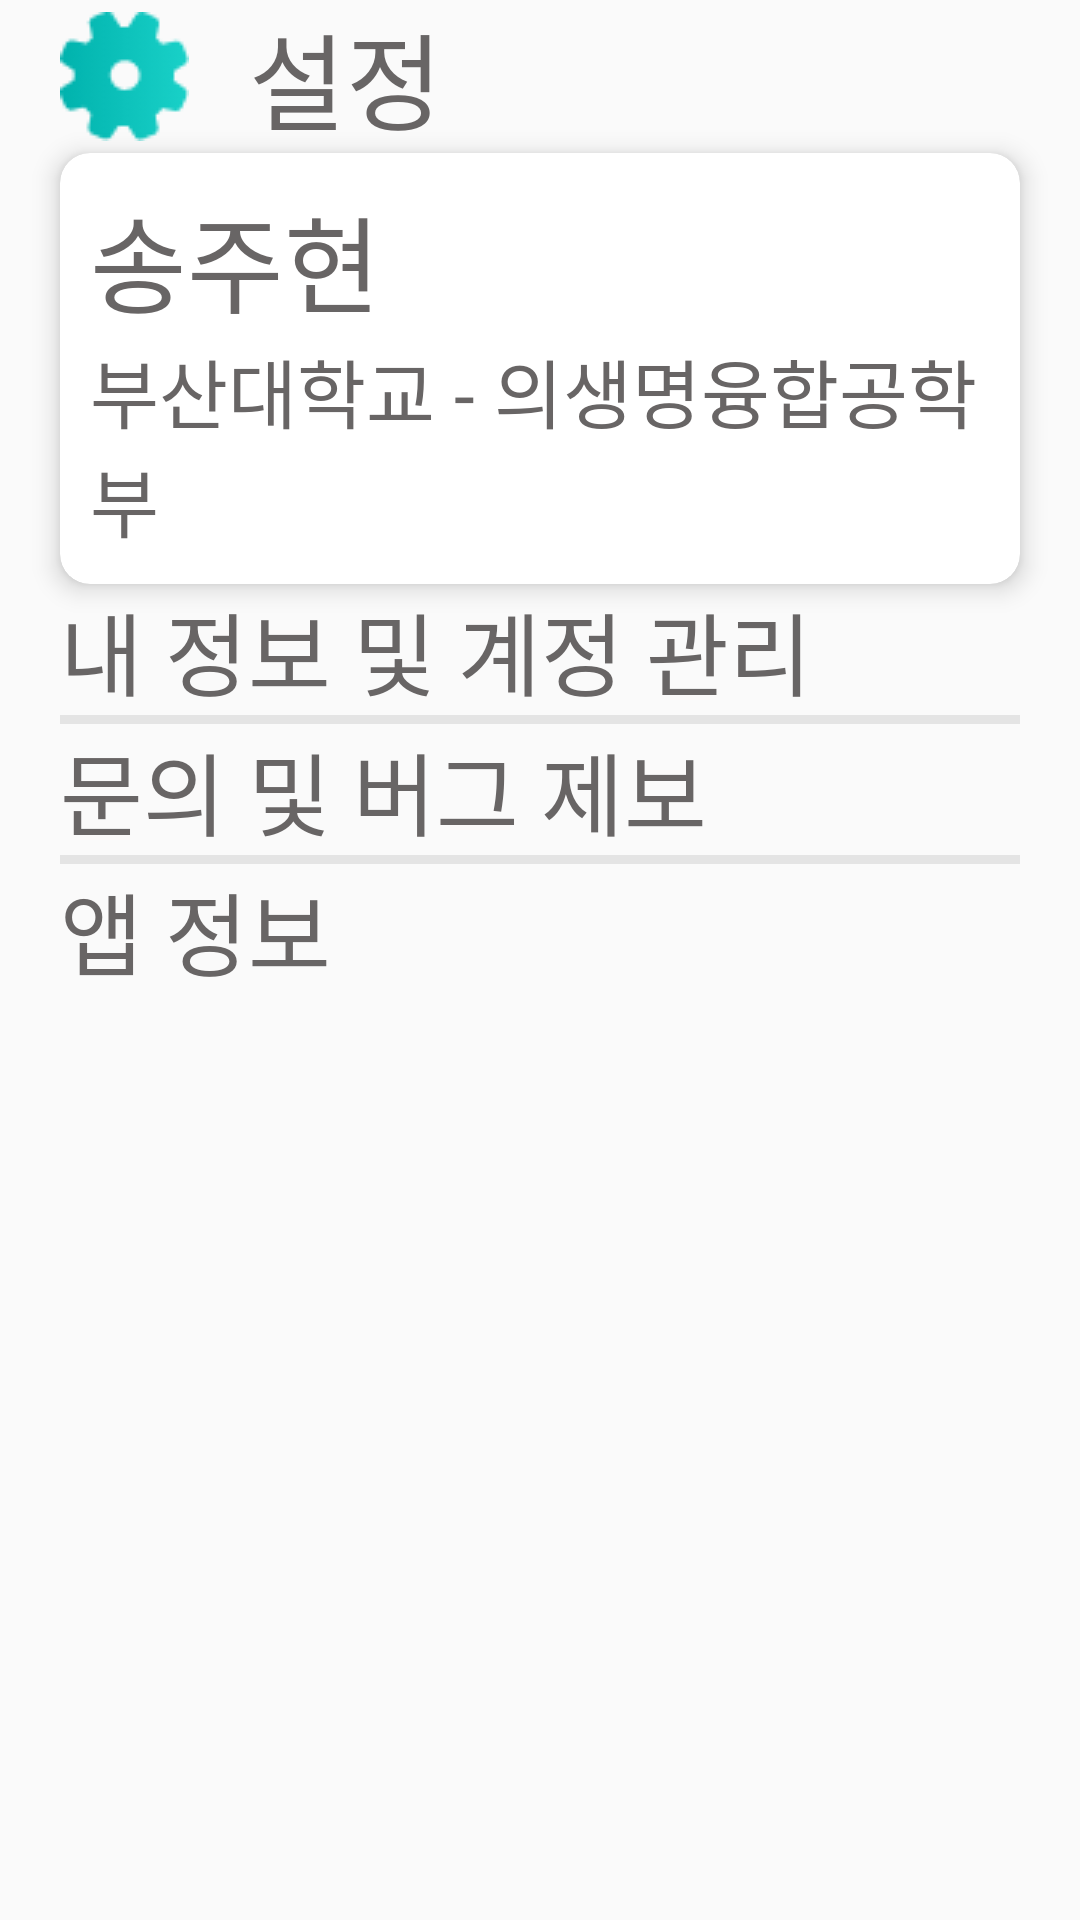

Icon click points for this 1080*1920 phone screenshot, format (x,y):
setting: (124,76)
